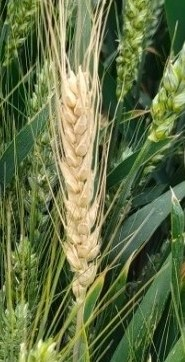Wheat scab: (50, 64, 117, 300)
